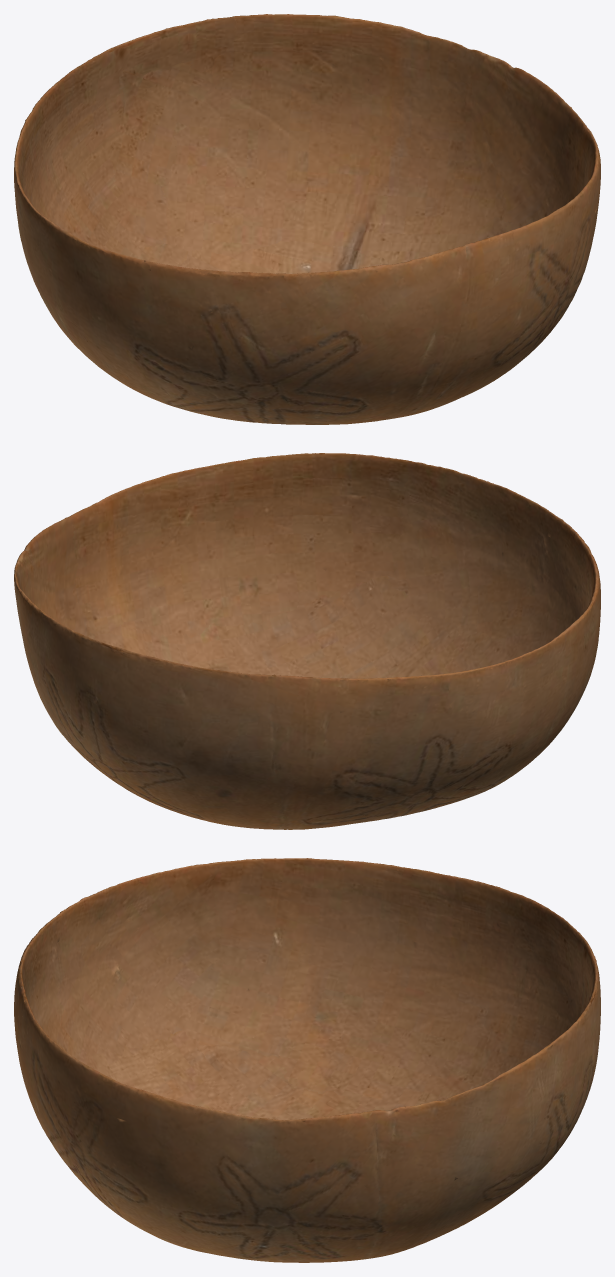
File: obj_cup_d6a91e.glb
3 renders of one model, top to bottom at view 1: azimuth 30°, elevation 25°; view 2: azimuth 150°, elevation 25°; view 3: azimuth 270°, elevation 25°, orthographic. The views are drawn at different scales.
Parts seen in each view (by area): view 1: obj_cup_d6a91e; view 2: obj_cup_d6a91e; view 3: obj_cup_d6a91e.
Part boxes in pixels (x1,y1,x2,y2): obj_cup_d6a91e: (14, 14, 600, 424); obj_cup_d6a91e: (14, 453, 600, 829); obj_cup_d6a91e: (14, 858, 600, 1262).
Size of the model in its own units: 0.6 by 0.2749 by 0.5824.
Materials: 1 (1 with a texture image).
